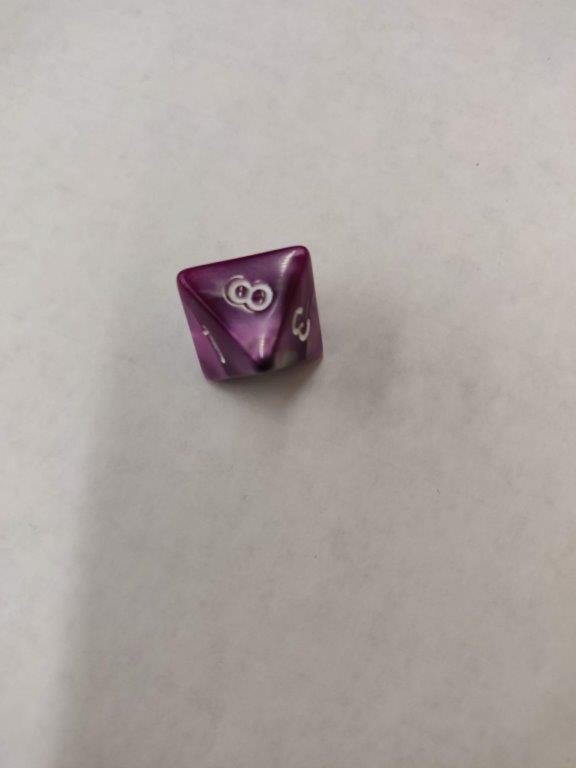d8-8: (175, 243, 327, 391)
